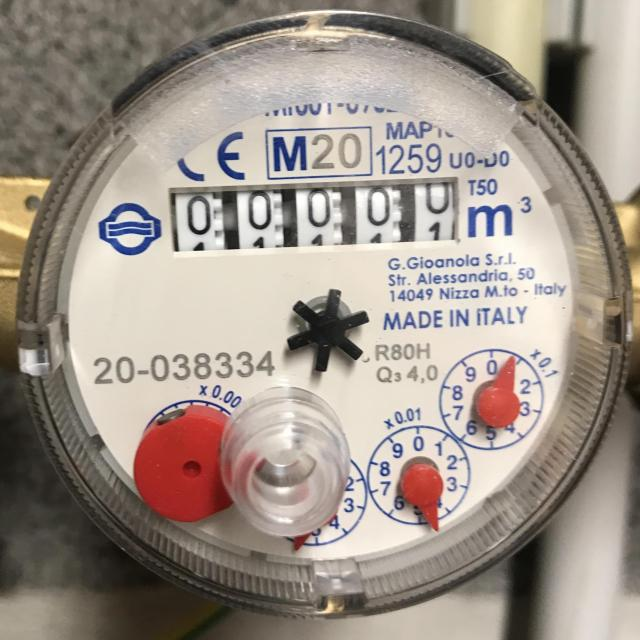gaz_meter: (39, 35, 624, 601)
indication: (167, 175, 458, 256)
